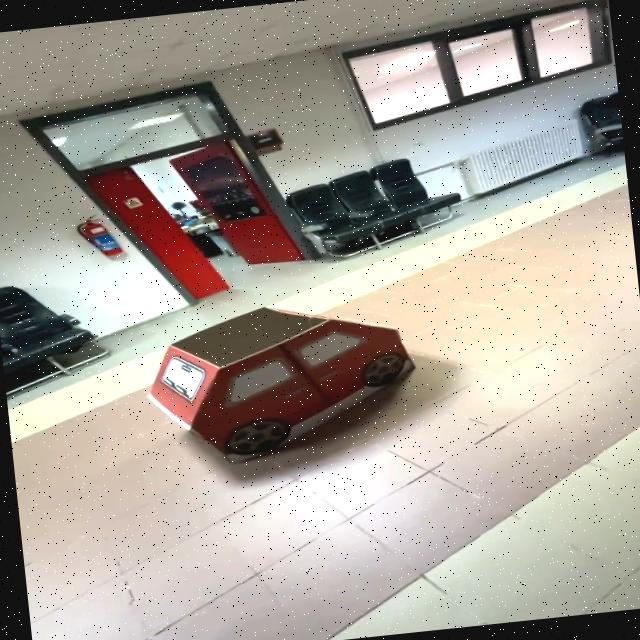red_car: (119, 278, 452, 479)
